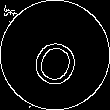O_NE: (25, 23, 85, 87)
